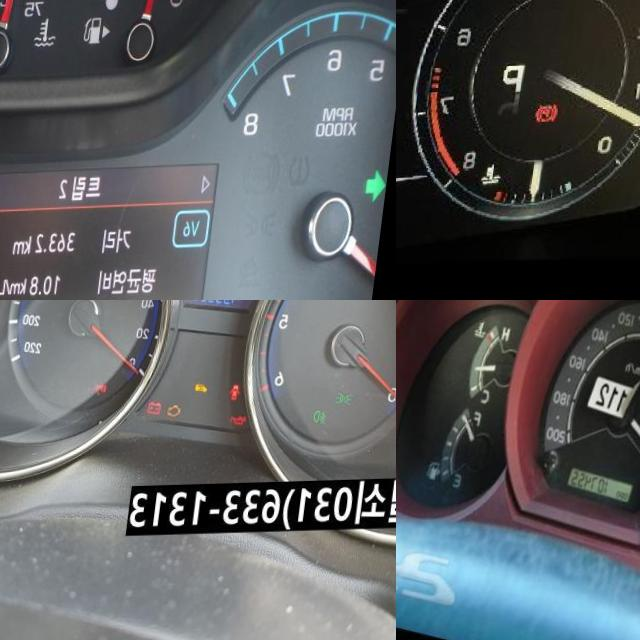Doors: (239, 385, 252, 403)
Engine cooling system: (490, 166, 516, 193)
FrontFogLight: (324, 412, 340, 427)
SideLamp: (346, 393, 365, 408)
